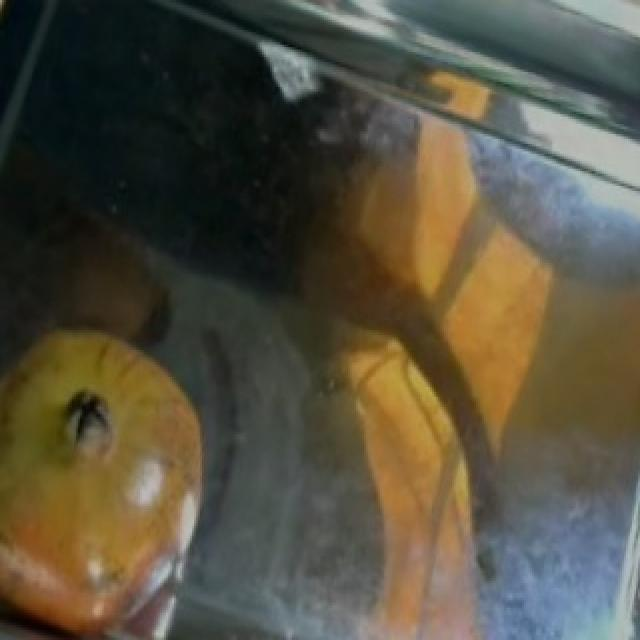fruit: (0, 292, 242, 556)
